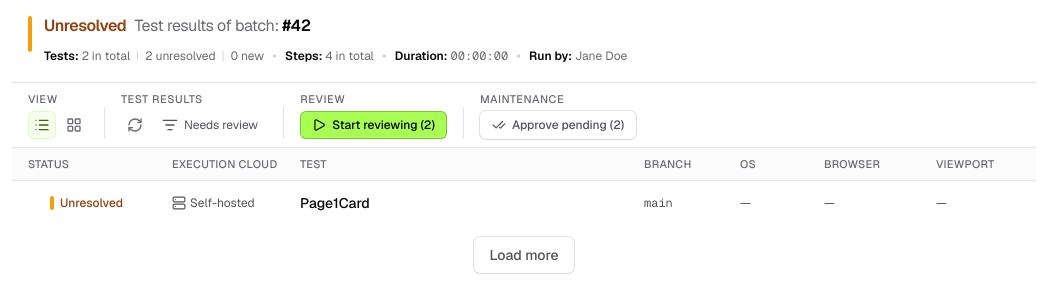
Test case: BatchPage › Load more appends the next page instead of replacing it
Expected: the text "Page1Card" is shown, [300,194,370,212]
Click the button "Load more" at point(524, 255), box [474,237,574,273]
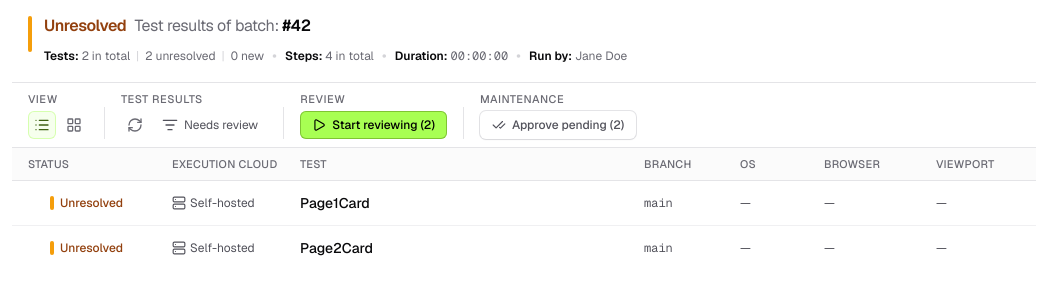
Expected: the text "Page1Card" is shown, [300,194,370,212]
Now the text "Page2Card" is shown, box [300,239,373,257]
